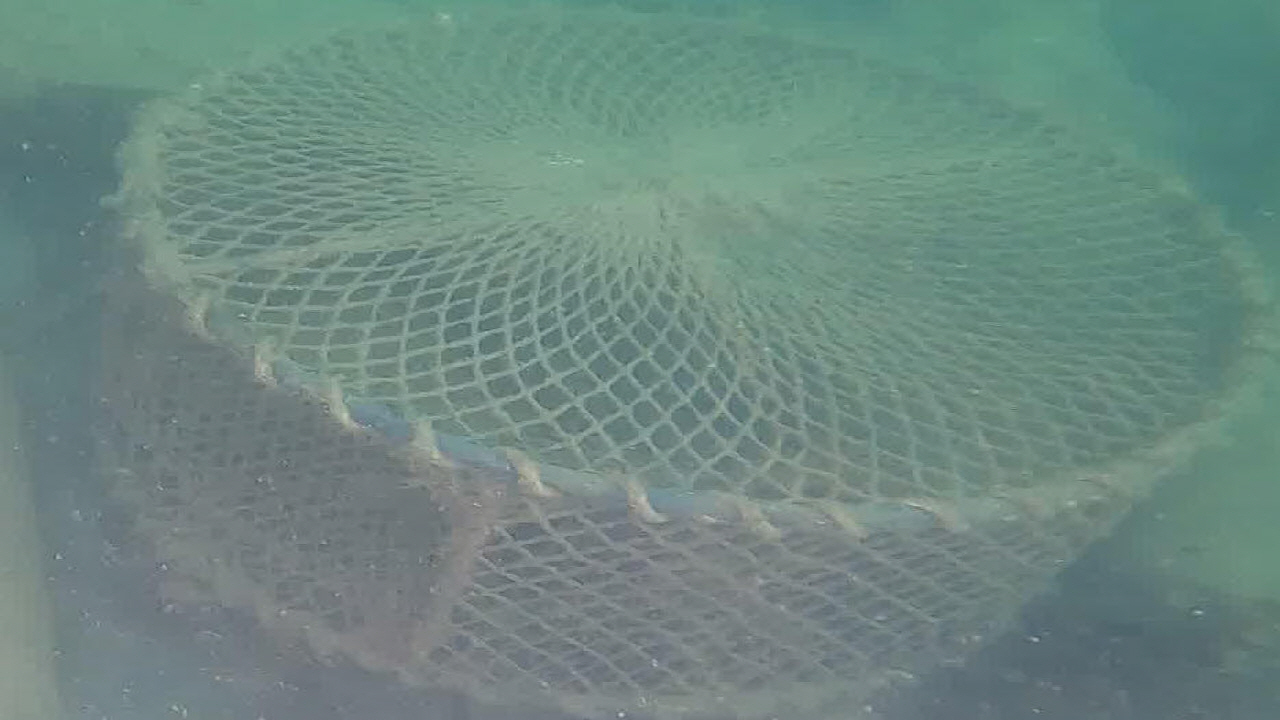circular fish trap: (90, 11, 1280, 720)
